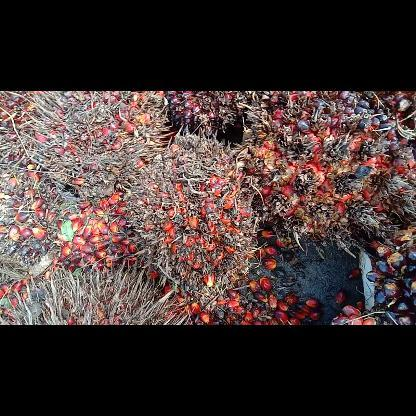Terlalu masak: (244, 91, 414, 255), (120, 132, 262, 312), (16, 90, 174, 184)
